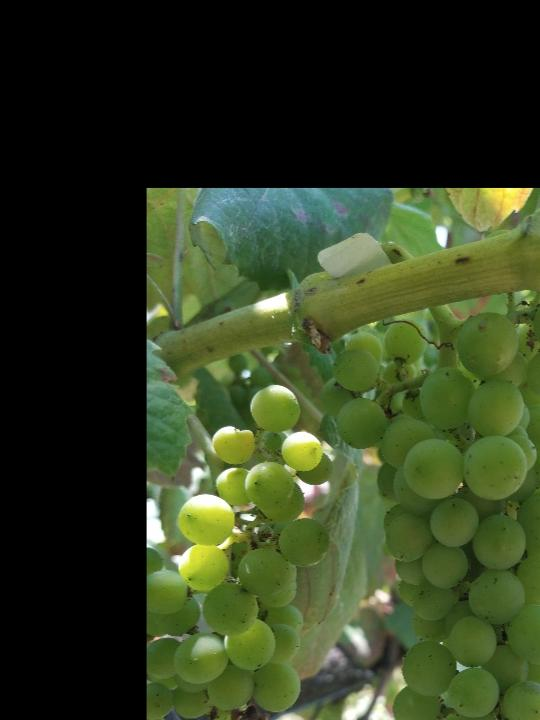grape: (319, 283, 540, 720), (156, 385, 332, 720)
